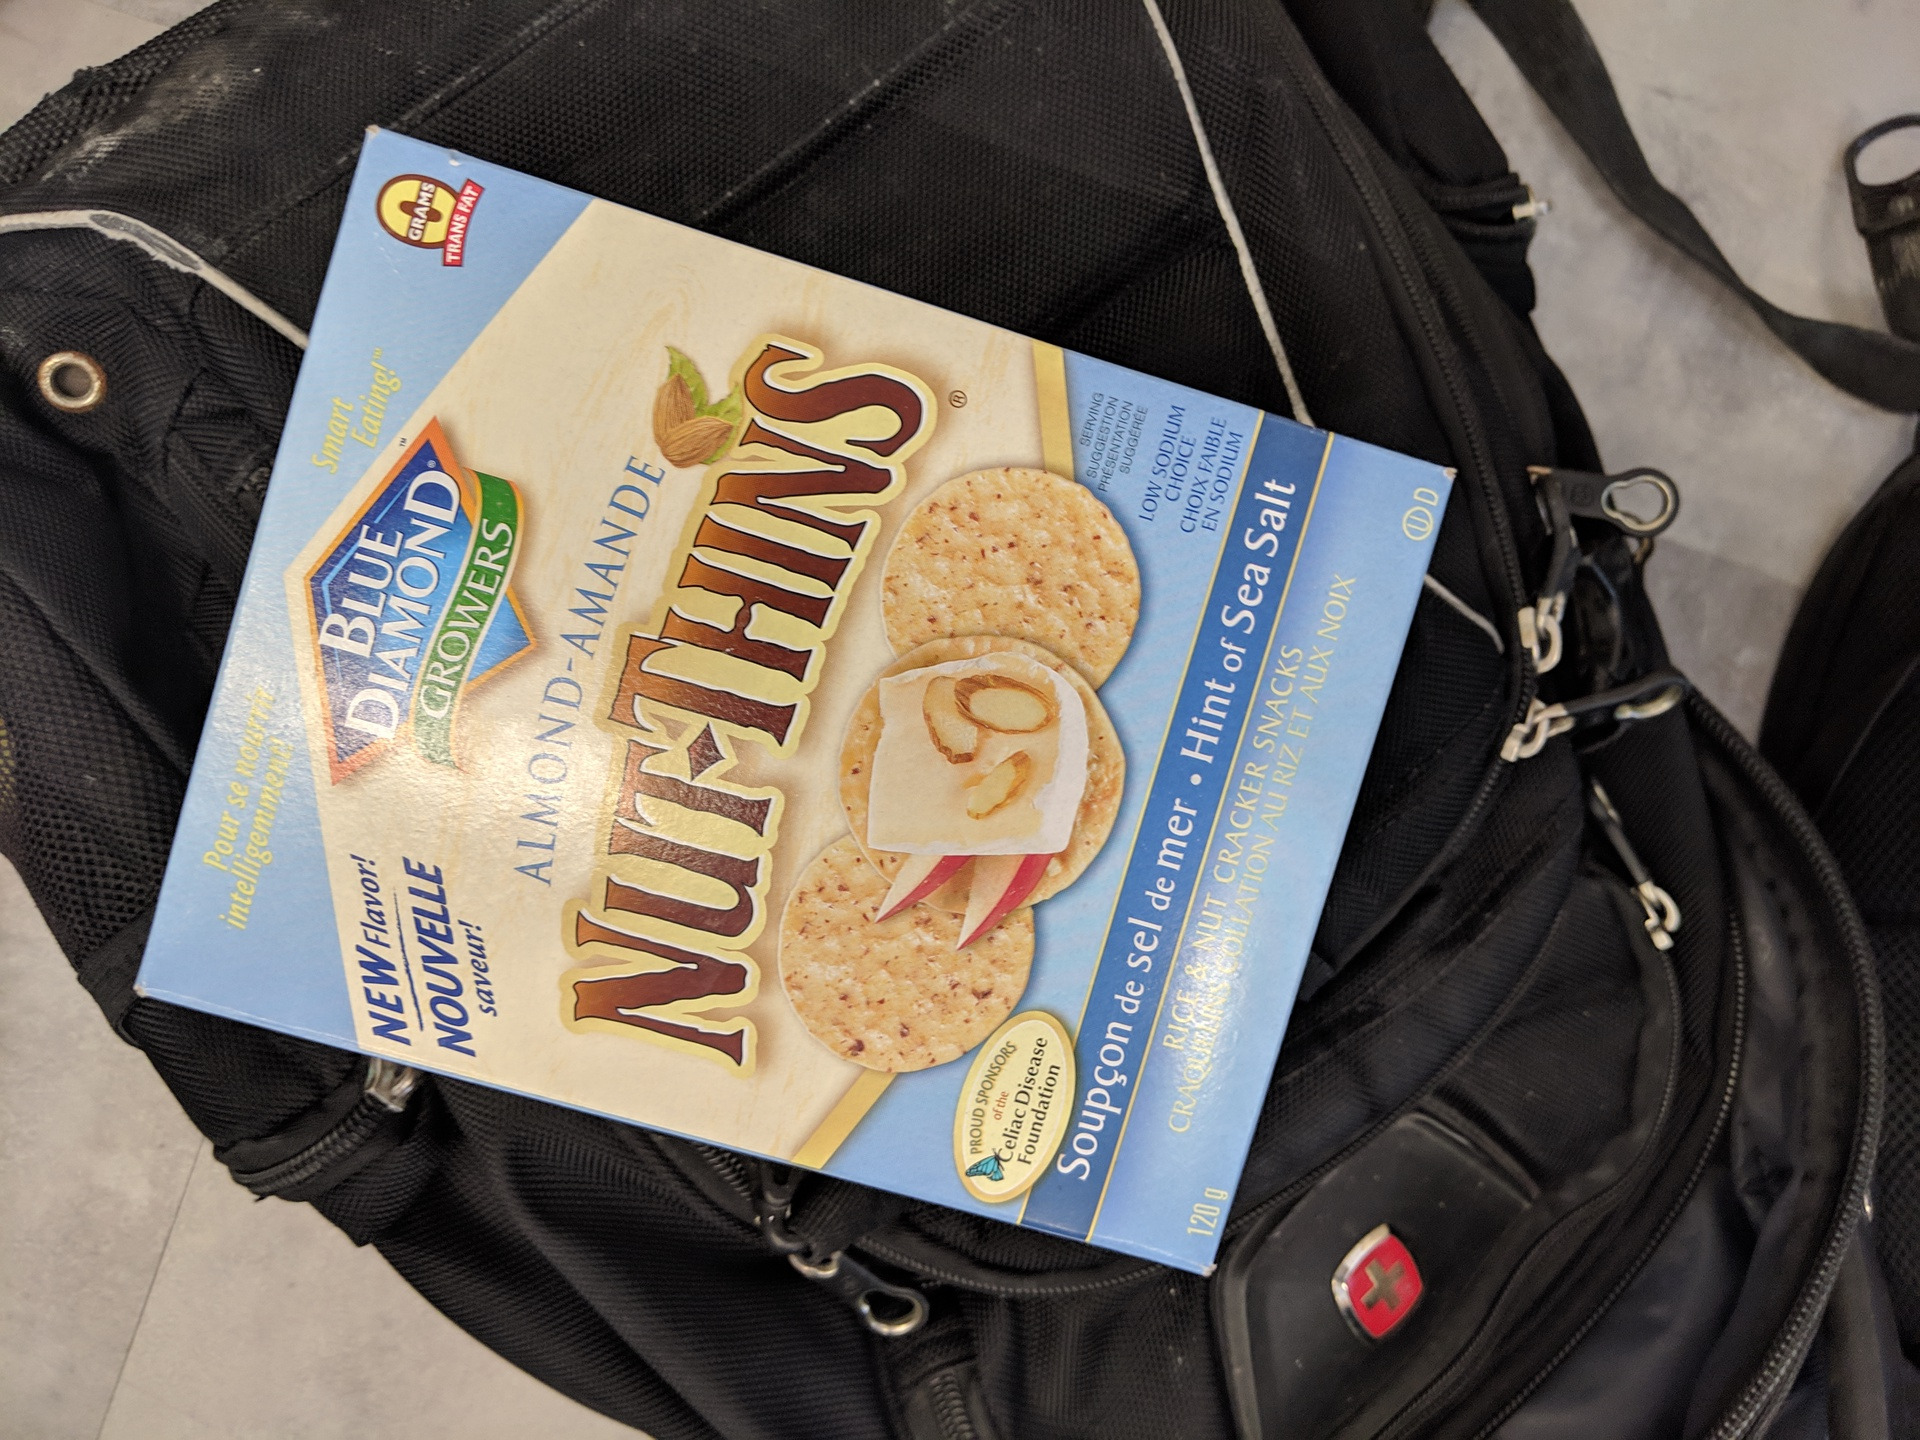blue_diamond_nut_thins_almond_seasalt: (299, 413, 1281, 1038)
